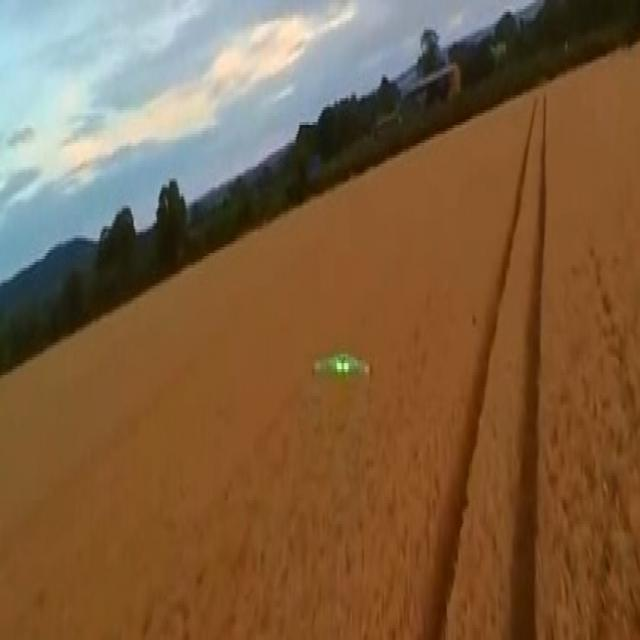iha: (338, 345, 340, 384)
